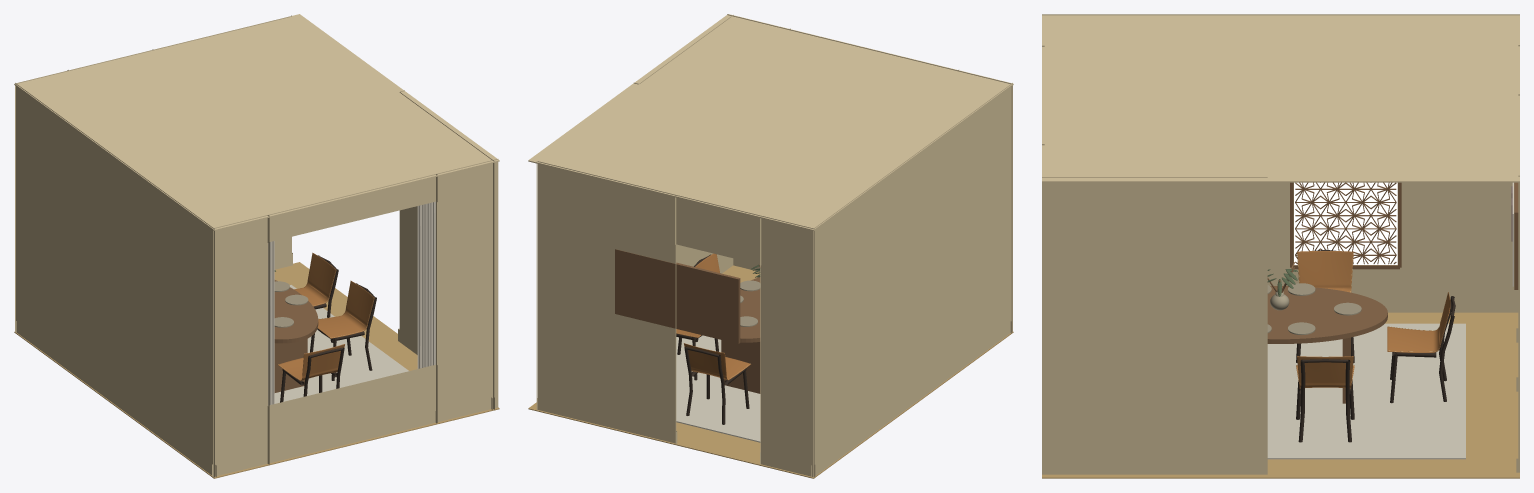
Rendered from dining-2.glb.
The picture shows the model from 3 angles, left to right: view 1: azimuth 30°, elevation 25°; view 2: azimuth 150°, elevation 25°; view 3: azimuth 270°, elevation 25°; orthographic projection. The views are drawn at different scales.
Parts seen in each view (by area): view 1: DESIGN | dining removable wall finish, DESIGN | dining ceiling finish, DESIGN | dining floor finish, DESIGN | Dining ground, DESIGN | Dining linen edge.001, DESIGN | Required Isadora dining chair 3, DESIGN | Required Isadora dining chair 5, DESIGN | Dining table top, DESIGN | Required Isadora dining chair 4, DESIGN | Dining linen edge, DESIGN | Dining table trestle; view 2: DESIGN | dining removable wall finish, DESIGN | dining ceiling finish, DESIGN | Quiet artwork frame.001, DESIGN | Dining ground, DESIGN | dining floor finish, DESIGN | Required Isadora dining chair 6, DESIGN | Dining table trestle.001, DESIGN | Dining table top; view 3: DESIGN | dining removable wall finish, DESIGN | dining ceiling finish, DESIGN | Dining ground, DESIGN | dining floor finish, DESIGN | Dining paired lit panels diffuse backing.001, DESIGN | Kumiko | Dining paired lit panels.001, DESIGN | Dining table top, DESIGN | Required Isadora dining chair 6, DESIGN | Required Isadora dining chair 4, DESIGN | Required Isadora dining chair 2, DESIGN | Quiet artwork frame.001.
Part boxes in pixels (x1,y1,x2,y2): DESIGN | dining removable wall finish: [15, 15, 498, 477]; DESIGN | dining ceiling finish: [14, 14, 499, 230]; DESIGN | dining floor finish: [14, 262, 499, 478]; DESIGN | Dining ground: [274, 285, 408, 403]; DESIGN | Dining linen edge.001: [417, 201, 435, 368]; DESIGN | Required Isadora dining chair 3: [310, 280, 376, 380]; DESIGN | Required Isadora dining chair 5: [278, 344, 344, 402]; DESIGN | Dining table top: [274, 280, 318, 343]; DESIGN | Required Isadora dining chair 4: [294, 252, 338, 342]; DESIGN | Dining linen edge: [268, 241, 274, 405]; DESIGN | Dining table trestle: [274, 339, 307, 392]; DESIGN | dining removable wall finish: [536, 14, 1012, 477]; DESIGN | dining ceiling finish: [528, 14, 1013, 230]; DESIGN | Quiet artwork frame.001: [615, 249, 740, 343]; DESIGN | Dining ground: [676, 335, 760, 442]; DESIGN | dining floor finish: [528, 265, 1013, 478]; DESIGN | Required Isadora dining chair 6: [684, 343, 750, 424]; DESIGN | Dining table trestle.001: [721, 340, 760, 393]; DESIGN | Dining table top: [740, 277, 760, 342]; DESIGN | dining removable wall finish: [1042, 14, 1519, 474]; DESIGN | dining ceiling finish: [1042, 15, 1519, 182]; DESIGN | Dining ground: [1267, 323, 1465, 459]; DESIGN | dining floor finish: [1042, 312, 1519, 478]; DESIGN | Dining paired lit panels diffuse backing.001: [1294, 182, 1397, 264]; DESIGN | Kumiko | Dining paired lit panels.001: [1290, 182, 1401, 269]; DESIGN | Dining table top: [1267, 286, 1387, 343]; DESIGN | Required Isadora dining chair 6: [1387, 292, 1455, 403]; DESIGN | Required Isadora dining chair 4: [1296, 356, 1354, 442]; DESIGN | Required Isadora dining chair 2: [1296, 249, 1354, 362]; DESIGN | Quiet artwork frame.001: [1514, 182, 1518, 289].
Size of the model in its own units: 3.28 by 2.74 by 3.98.
